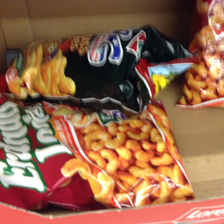chips: (1, 97, 196, 207), (4, 24, 194, 110)
